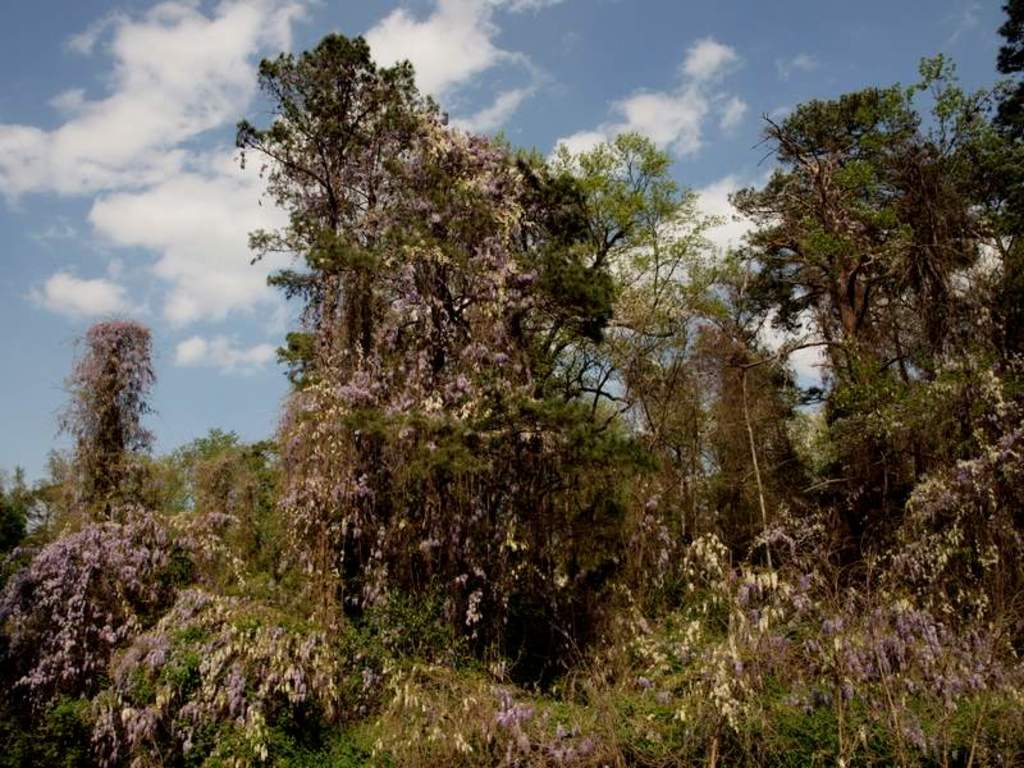Tree: (3, 0, 1017, 766)
